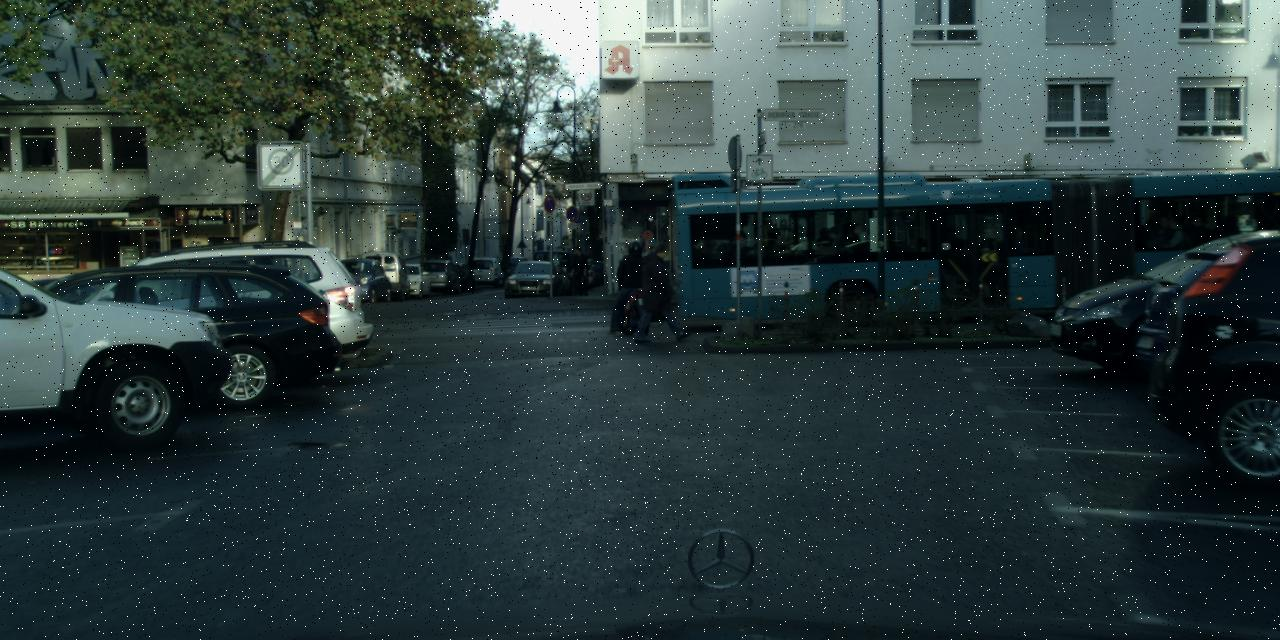ped: (642, 241, 682, 342), (614, 240, 650, 328), (570, 247, 590, 296)
